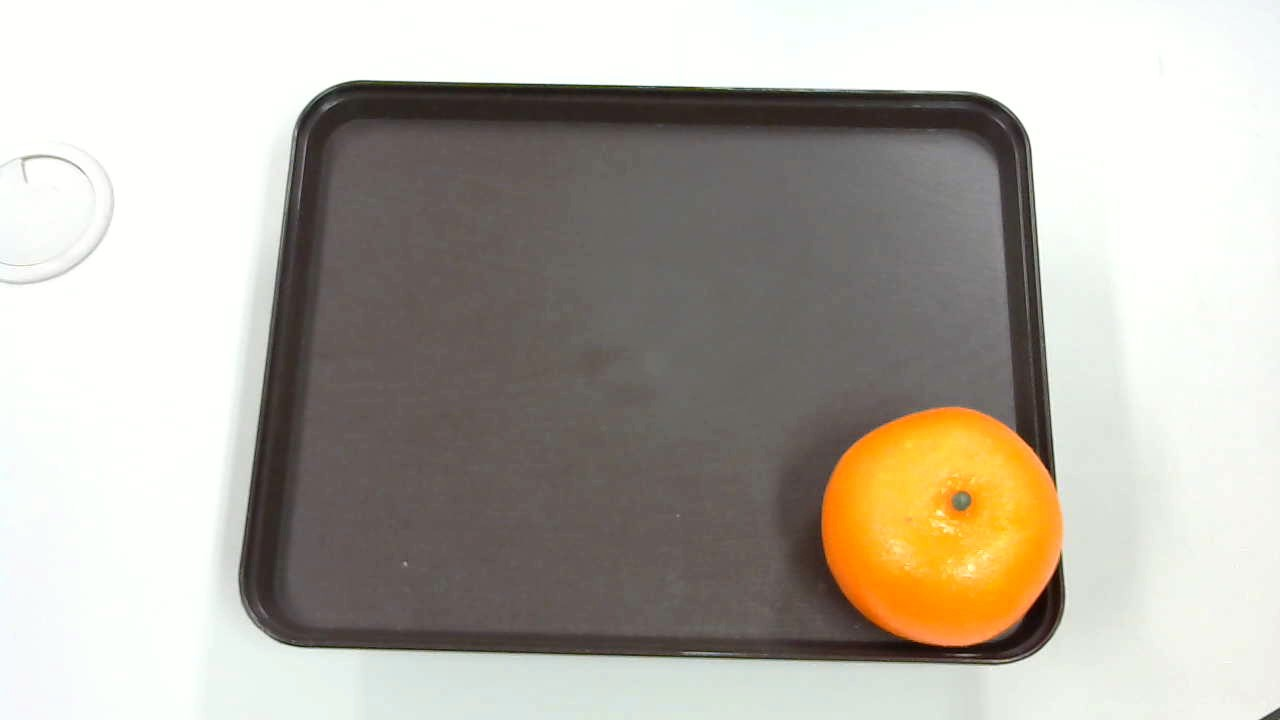orange: (813, 402, 1074, 658)
